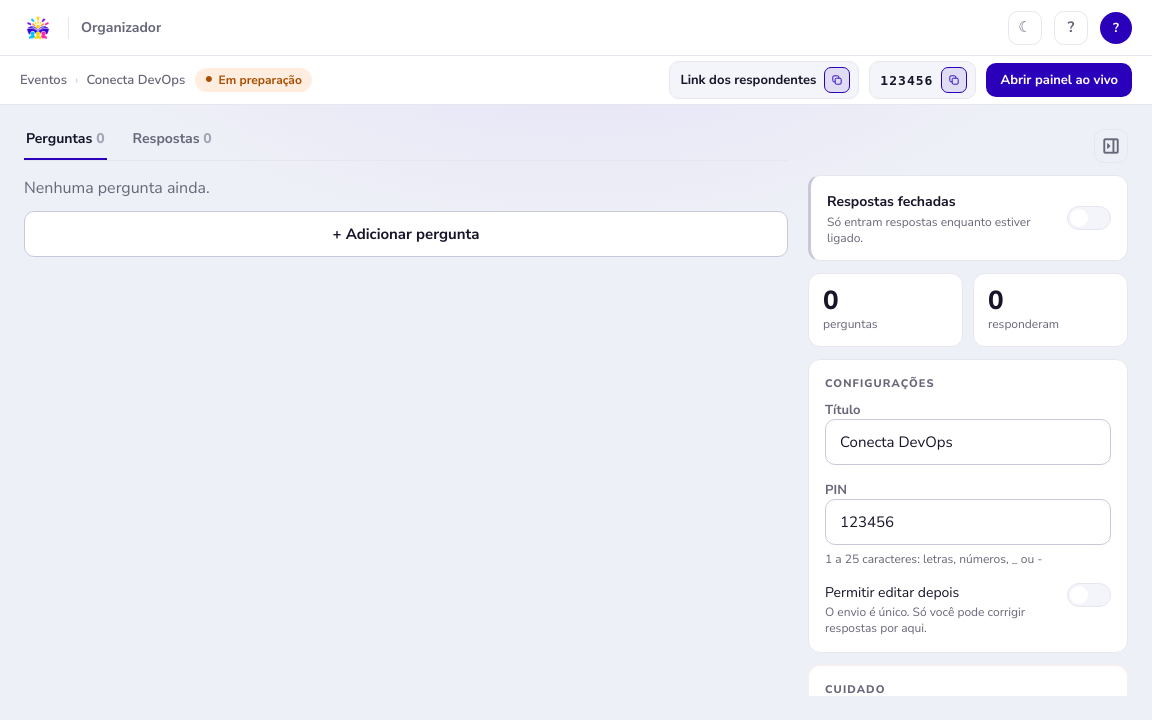
Test case: Editar evento › não mostra "Salvar alterações" sem mudar título/PIN, e some de novo após salvar
The image size is (1152, 720).
Expected: the button "Salvar alterações" is not shown
Replace the text in the field labelled "Título" with "Título novo" at (968, 442), box [825,419,1111,465]
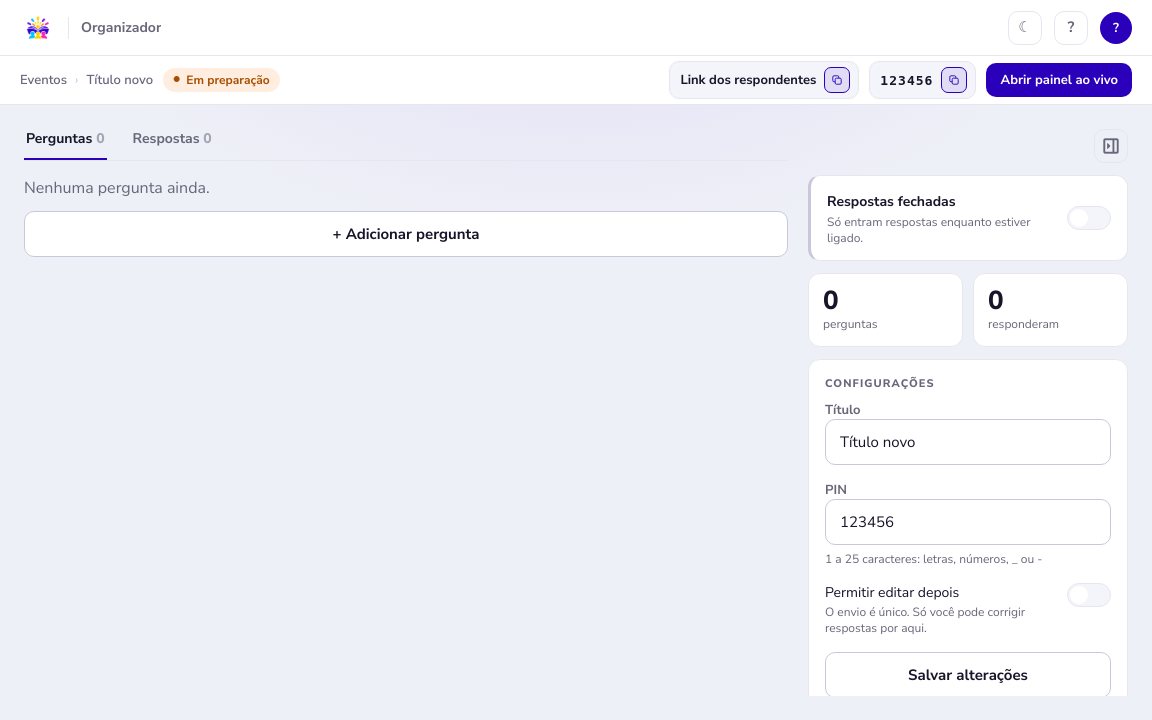
Expected: the button "Salvar alterações" is shown
Click the button "Salvar alterações".
click(968, 675)  # box [825,652,1111,698]
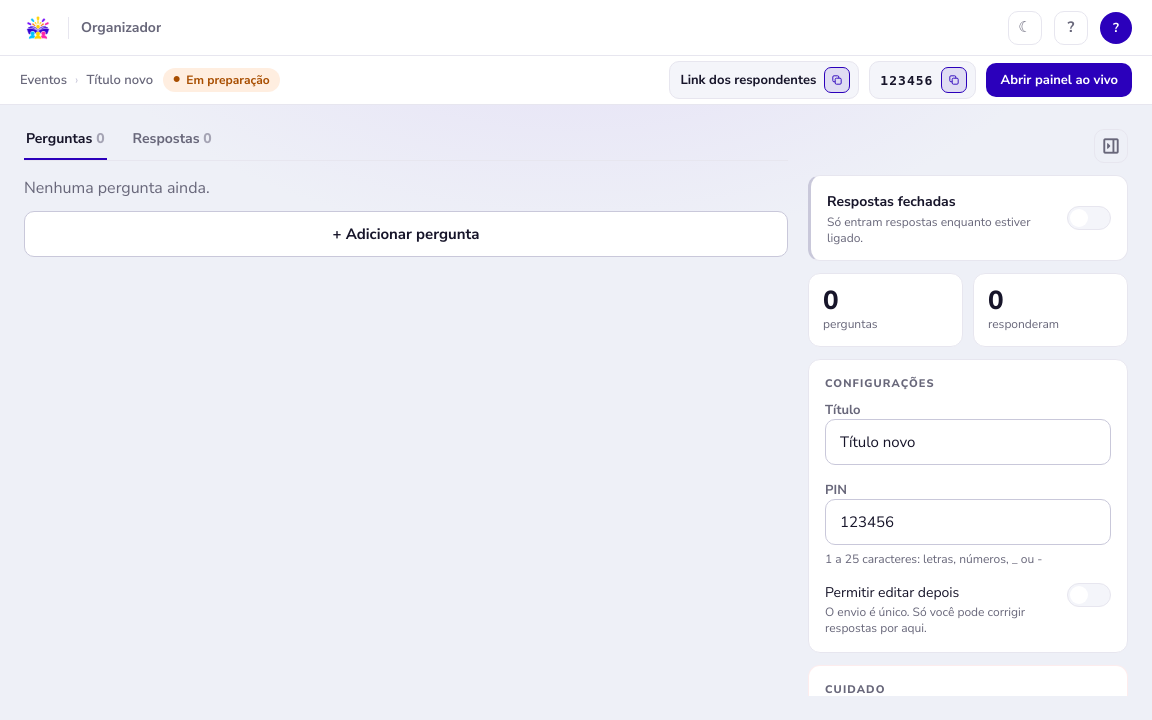
Expected: the button "Salvar alterações" is gone
